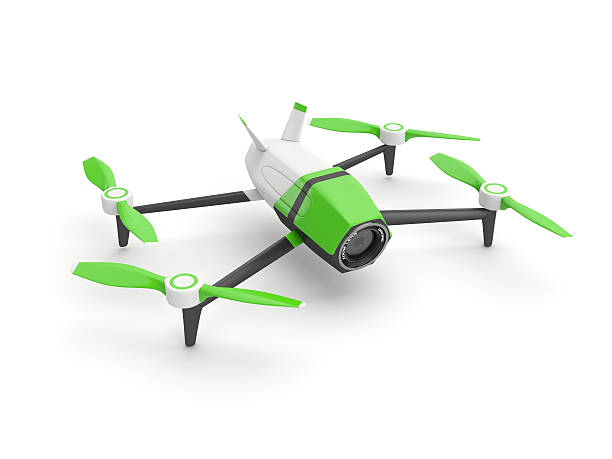Drone: (61, 97, 577, 349)
